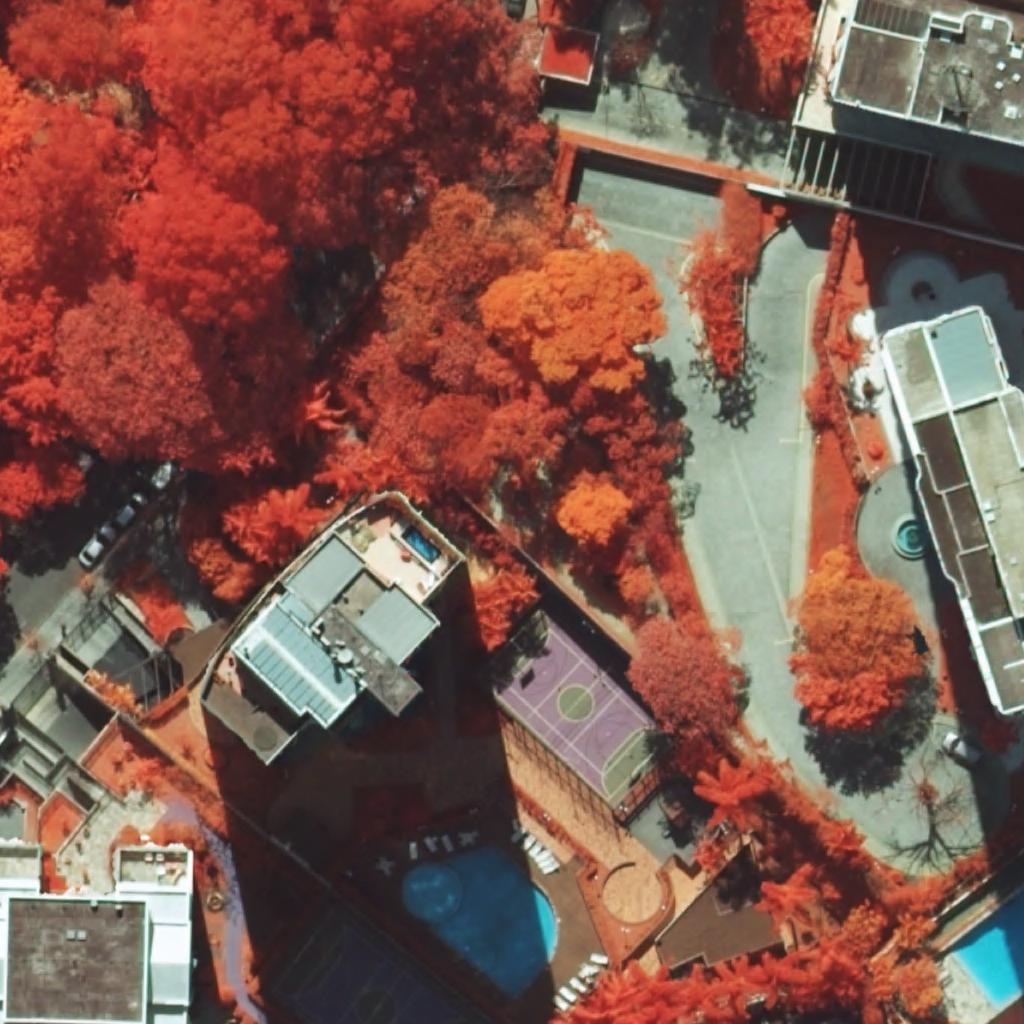pool: (402, 845, 557, 998), (949, 889, 1024, 1007), (401, 525, 442, 564)
